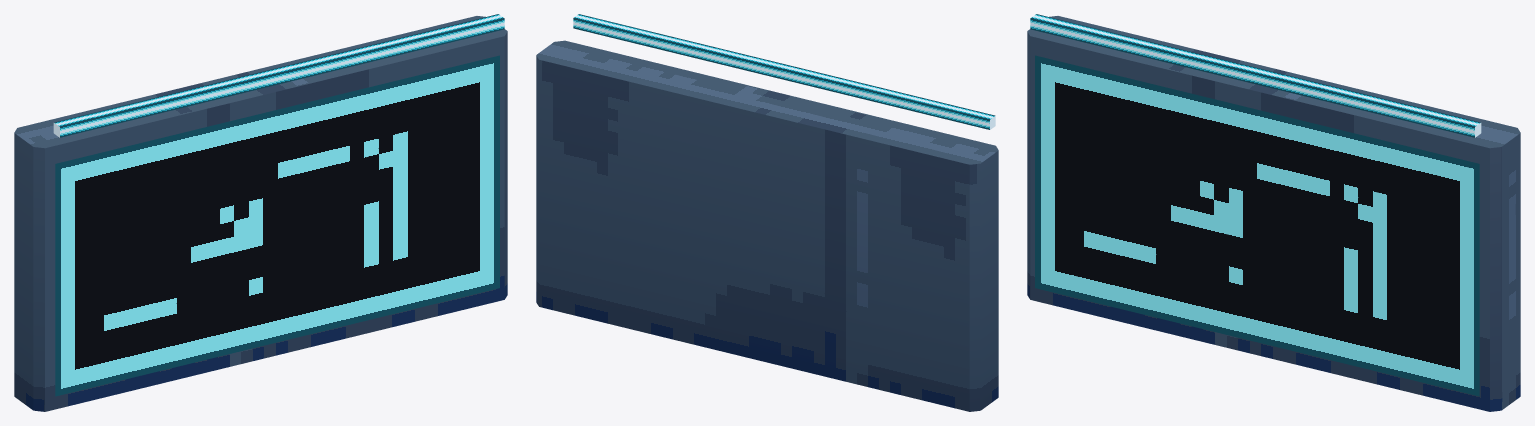
Rendered from cysign.frame.glb.
3 views of the same model, side by side, from view 1: azimuth 30°, elevation 25°; view 2: azimuth 150°, elevation 25°; view 3: azimuth 330°, elevation 25° (orthographic). The views are drawn at different scales.
Parts seen in each view (by area): view 1: kit_card_face, kit_box, kit_neon; view 2: kit_box, kit_neon; view 3: kit_card_face, kit_box, kit_neon.
Boxes of the visible parts, <box> form: kit_card_face: <box>55,55,499,396</box>; kit_box: <box>14,16,507,411</box>; kit_neon: <box>53,14,504,137</box>; kit_box: <box>536,40,998,411</box>; kit_neon: <box>573,14,995,129</box>; kit_card_face: <box>1035,55,1479,396</box>; kit_box: <box>1027,16,1520,411</box>; kit_neon: <box>1030,14,1481,137</box>.
Size of the model in its own units: 2.56 by 1.49 by 0.3283.
Materials: 3 (3 with a texture image).
